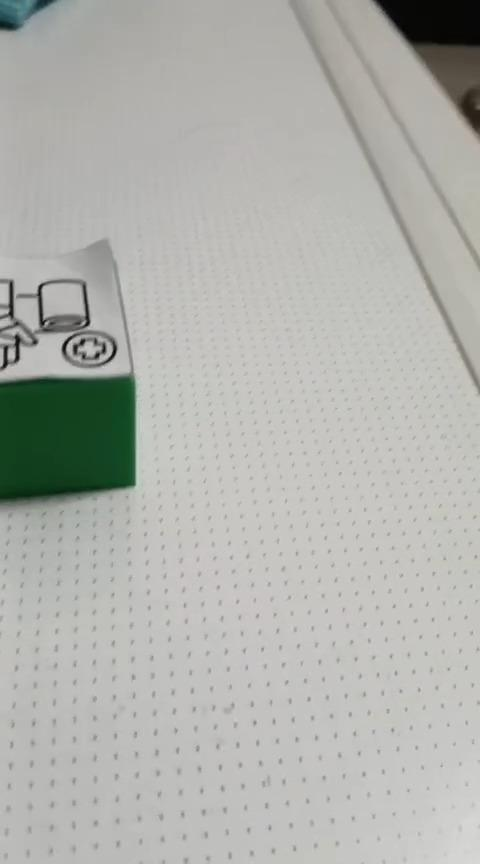Bandages: (0, 237, 137, 500)
